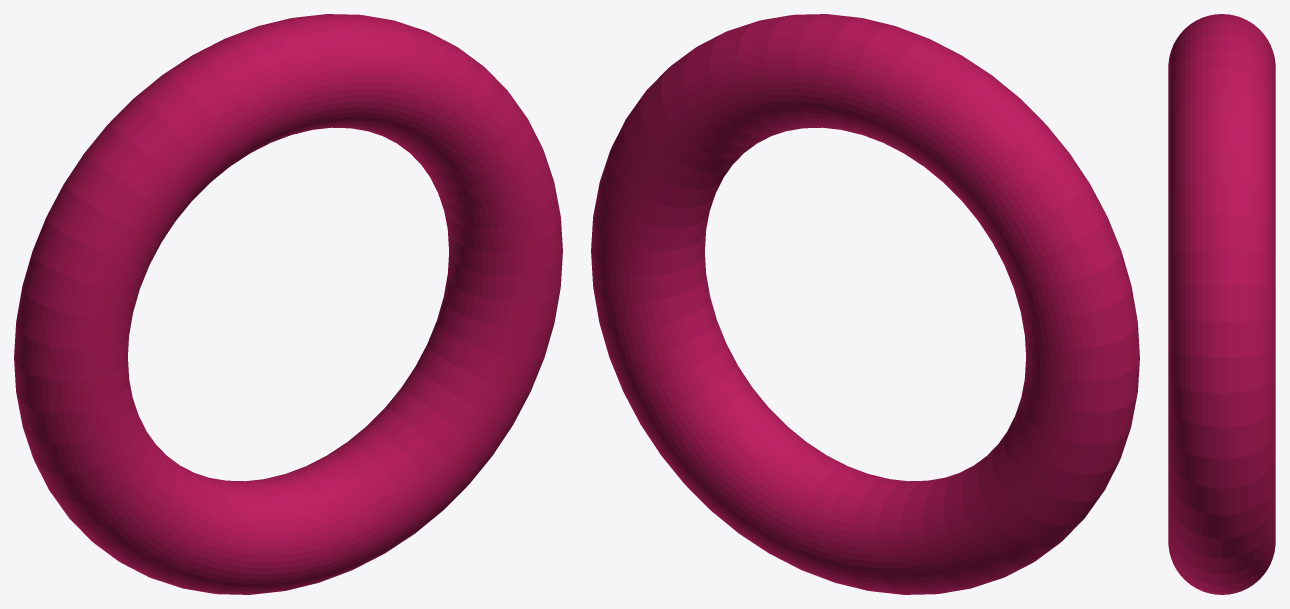
3 renders of one model, left to right at view 1: azimuth 30°, elevation 25°; view 2: azimuth 150°, elevation 25°; view 3: azimuth 270°, elevation 25°, orthographic. The views are drawn at different scales.
Visible parts, largest first — view 1: world; view 2: world; view 3: world.
Boxes of the visible parts, x1,y1,x2,y2 form: world: [14, 14, 562, 594]; world: [591, 14, 1139, 594]; world: [1168, 14, 1275, 594].
Bounding box in the file's own units: 36.8 × 36.73 × 6.79.
